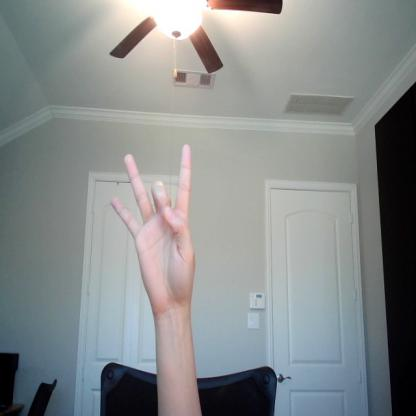eight: (108, 138, 190, 307)
